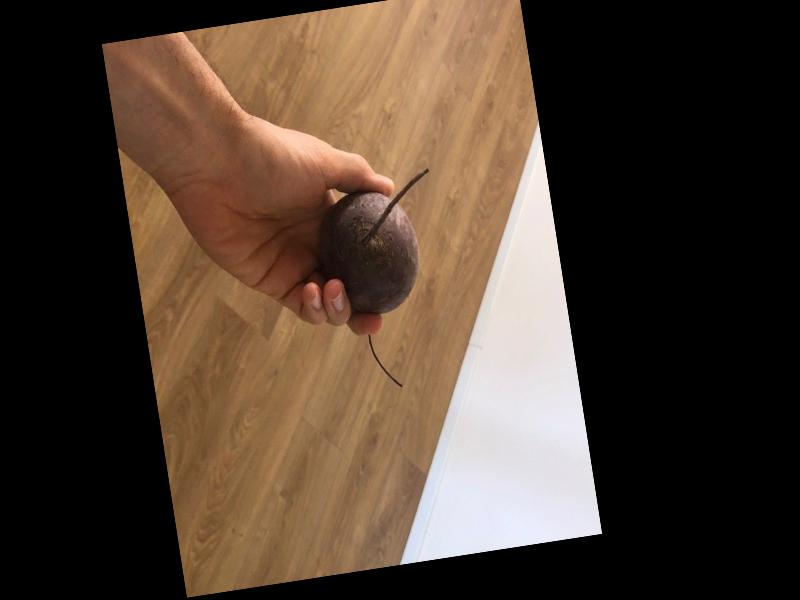Beet: (309, 169, 460, 397)
